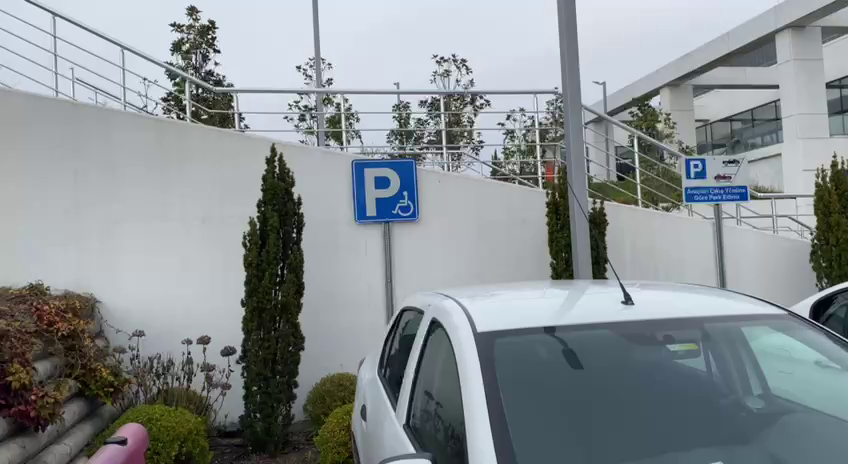parking: (351, 159, 420, 222), (684, 156, 708, 182)
